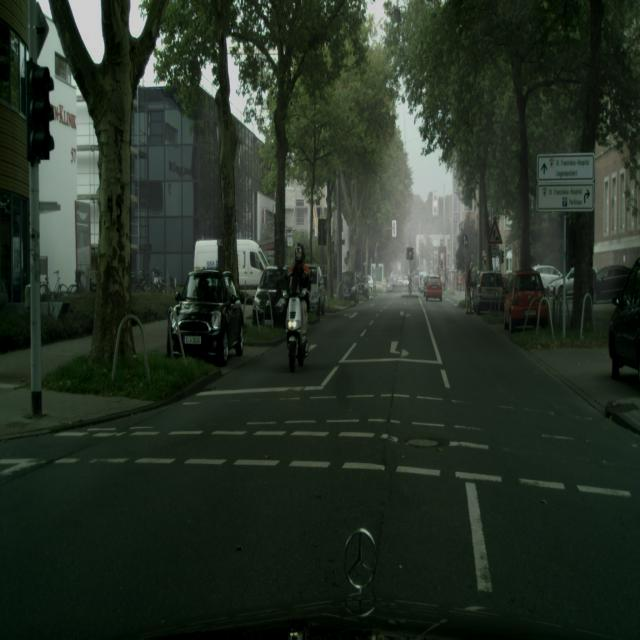bus: (285, 290, 308, 372)
person: (286, 243, 311, 342), (465, 261, 473, 312)
truck: (167, 268, 245, 364), (607, 256, 640, 381), (503, 270, 546, 332), (252, 265, 289, 328), (474, 271, 505, 314), (305, 263, 326, 319), (532, 263, 564, 291), (354, 274, 372, 299), (425, 278, 442, 302)
